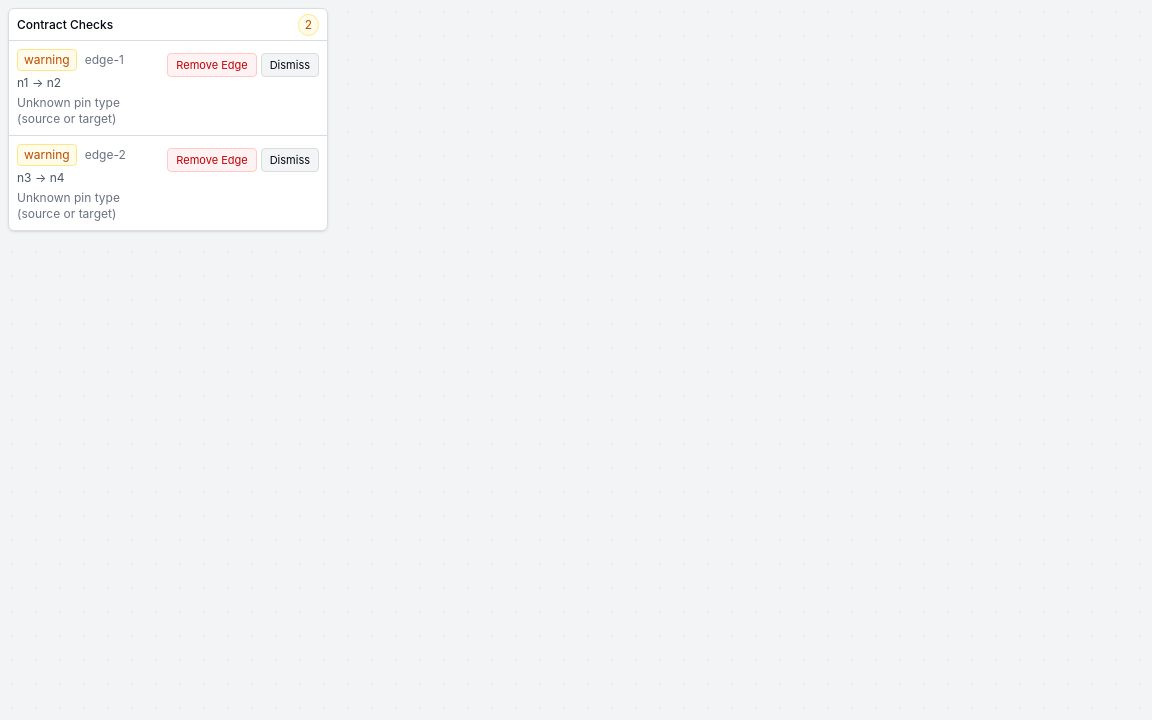
Test: ContractOverlay (integration) › Dismiss button hides the issue from the visible list
Expected: the text titled "2 issues" is shown, [298,14,319,36]
Expected: the text "edge-1" is shown, [85,52,124,68]
Note: Click Dismiss on the first edge's issue
Click the button "Dismiss" in the row of "edge-1" at coordinates (290, 65), box [261,53,319,77]
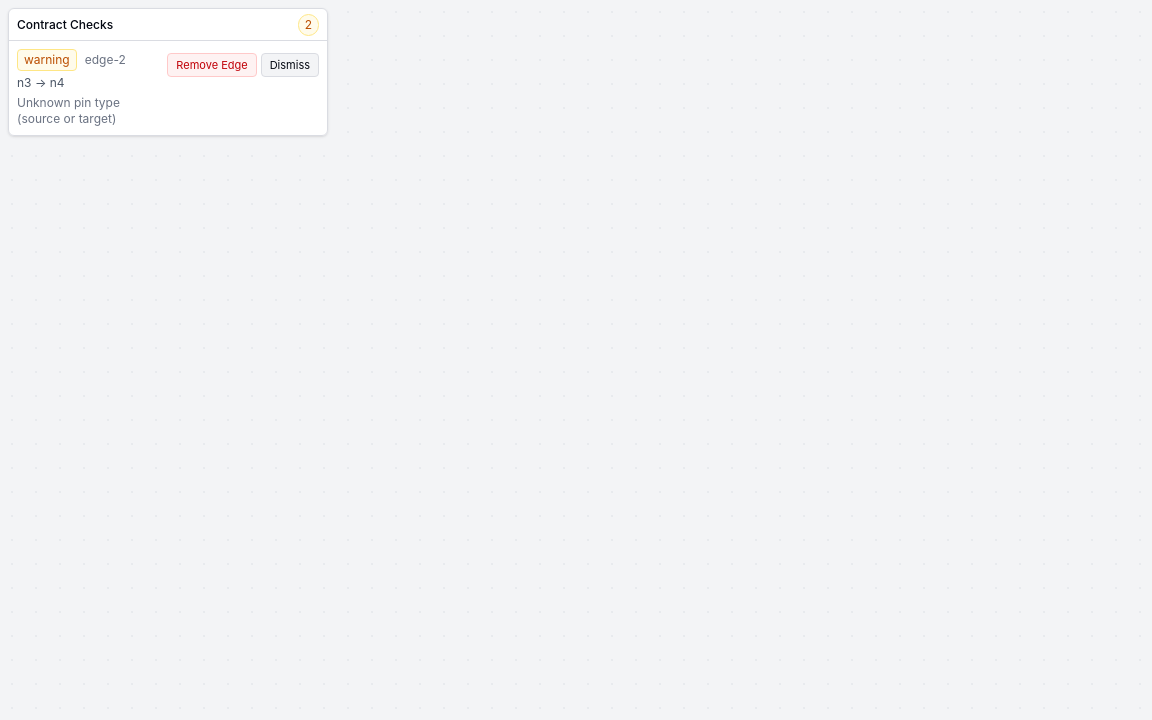
Expected: the text "edge-2" is shown, [85,52,126,68]
Expected: the text "edge-1" is gone
